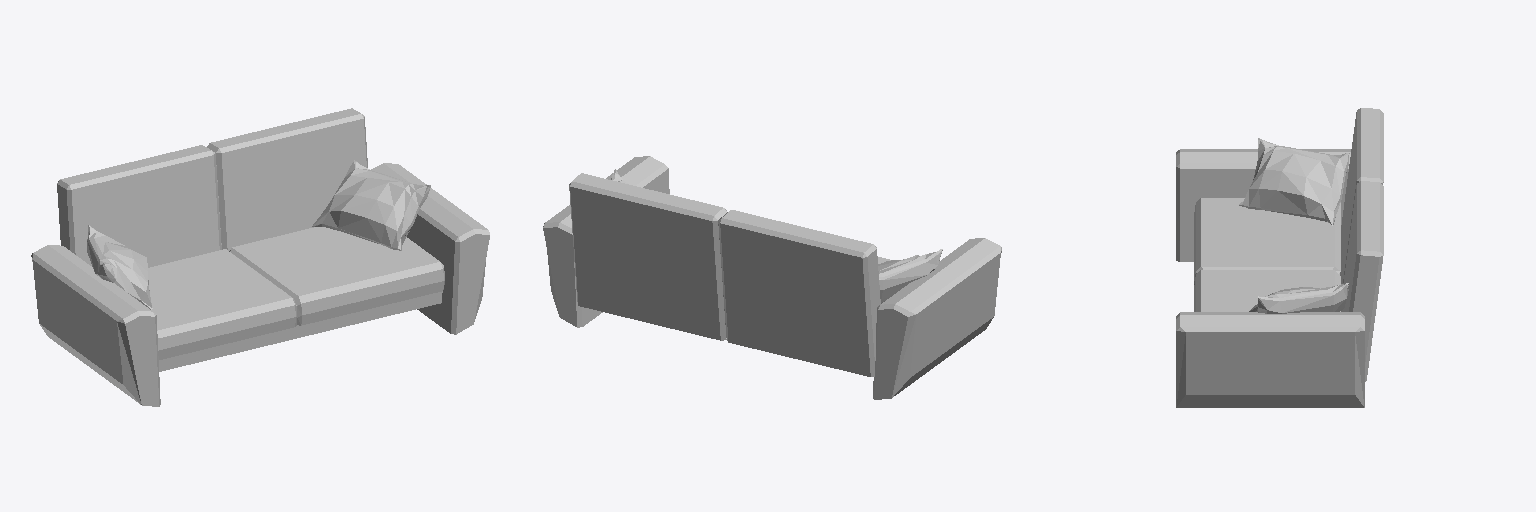
The model's file is sofa_001.obj.
3 renders of one model, left to right at view 1: azimuth 30°, elevation 25°; view 2: azimuth 150°, elevation 25°; view 3: azimuth 270°, elevation 25°, orthographic.
Visible parts, largest first — view 1: sofa_001; view 2: sofa_001; view 3: sofa_001.
Boxes of the visible parts, x1,y1,x2,y2 form: sofa_001: [31, 108, 489, 406]; sofa_001: [543, 156, 1001, 399]; sofa_001: [1176, 108, 1383, 407].
Bounding box in the file's own units: 1.97 × 0.779 × 0.9491.